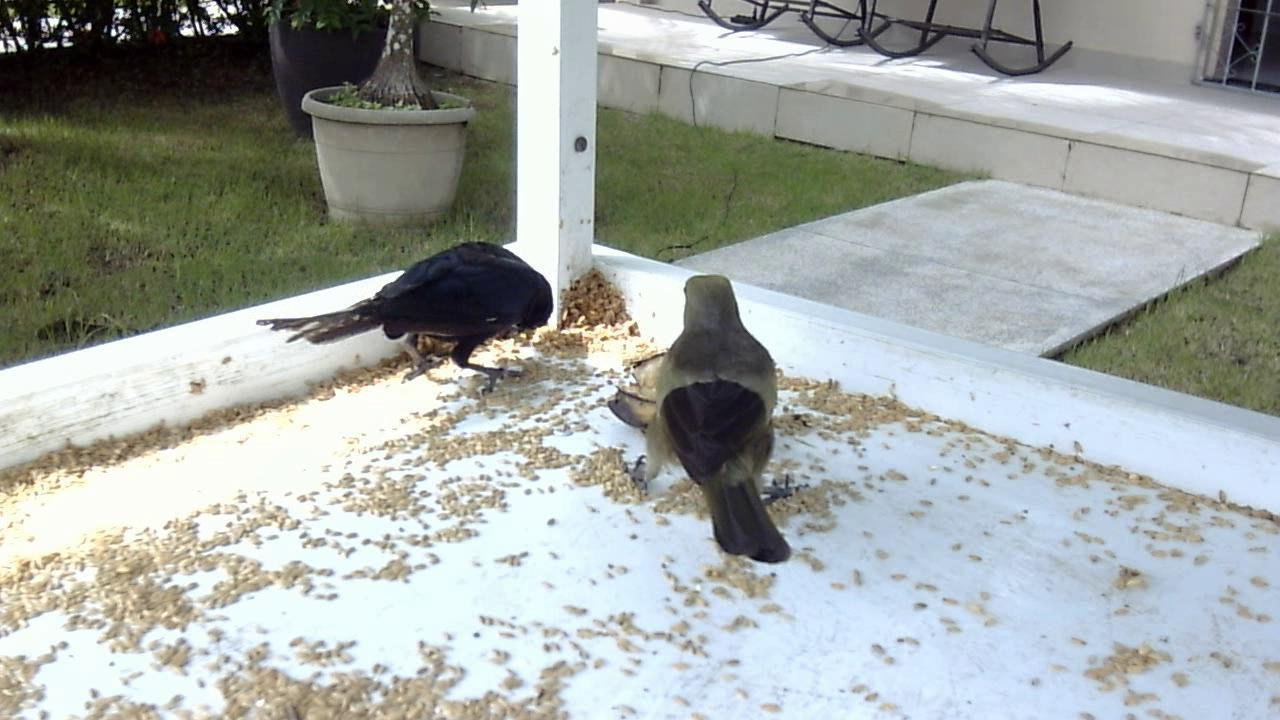chupim: (260, 231, 565, 404)
sanhaco_do_coqueiro: (605, 259, 802, 571)
